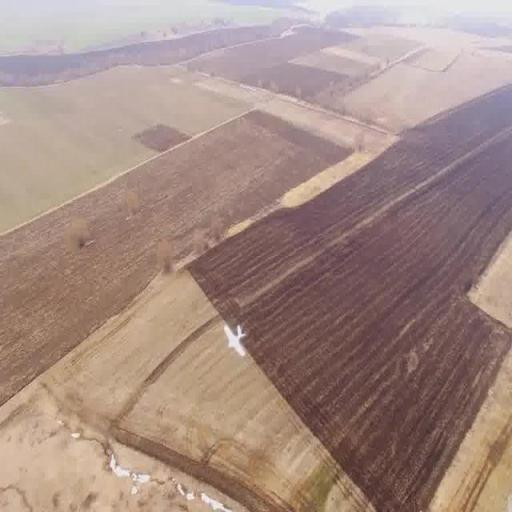uav: (220, 315, 253, 355)
